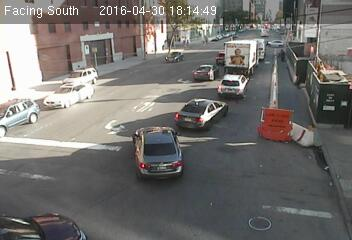neg: (61, 42, 102, 97), (41, 120, 73, 162), (253, 109, 281, 145), (254, 42, 279, 76), (306, 161, 331, 195), (148, 104, 173, 137), (304, 67, 328, 100), (215, 100, 237, 128), (108, 193, 124, 215), (162, 45, 176, 63)
